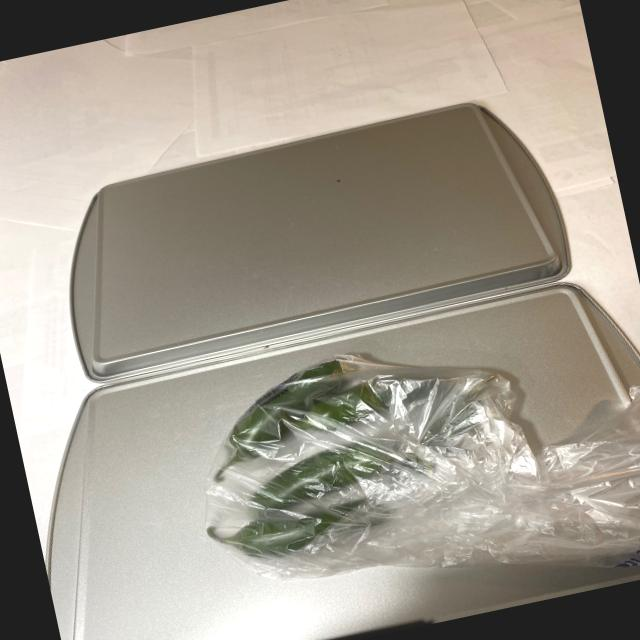chilli: (177, 321, 528, 590)
